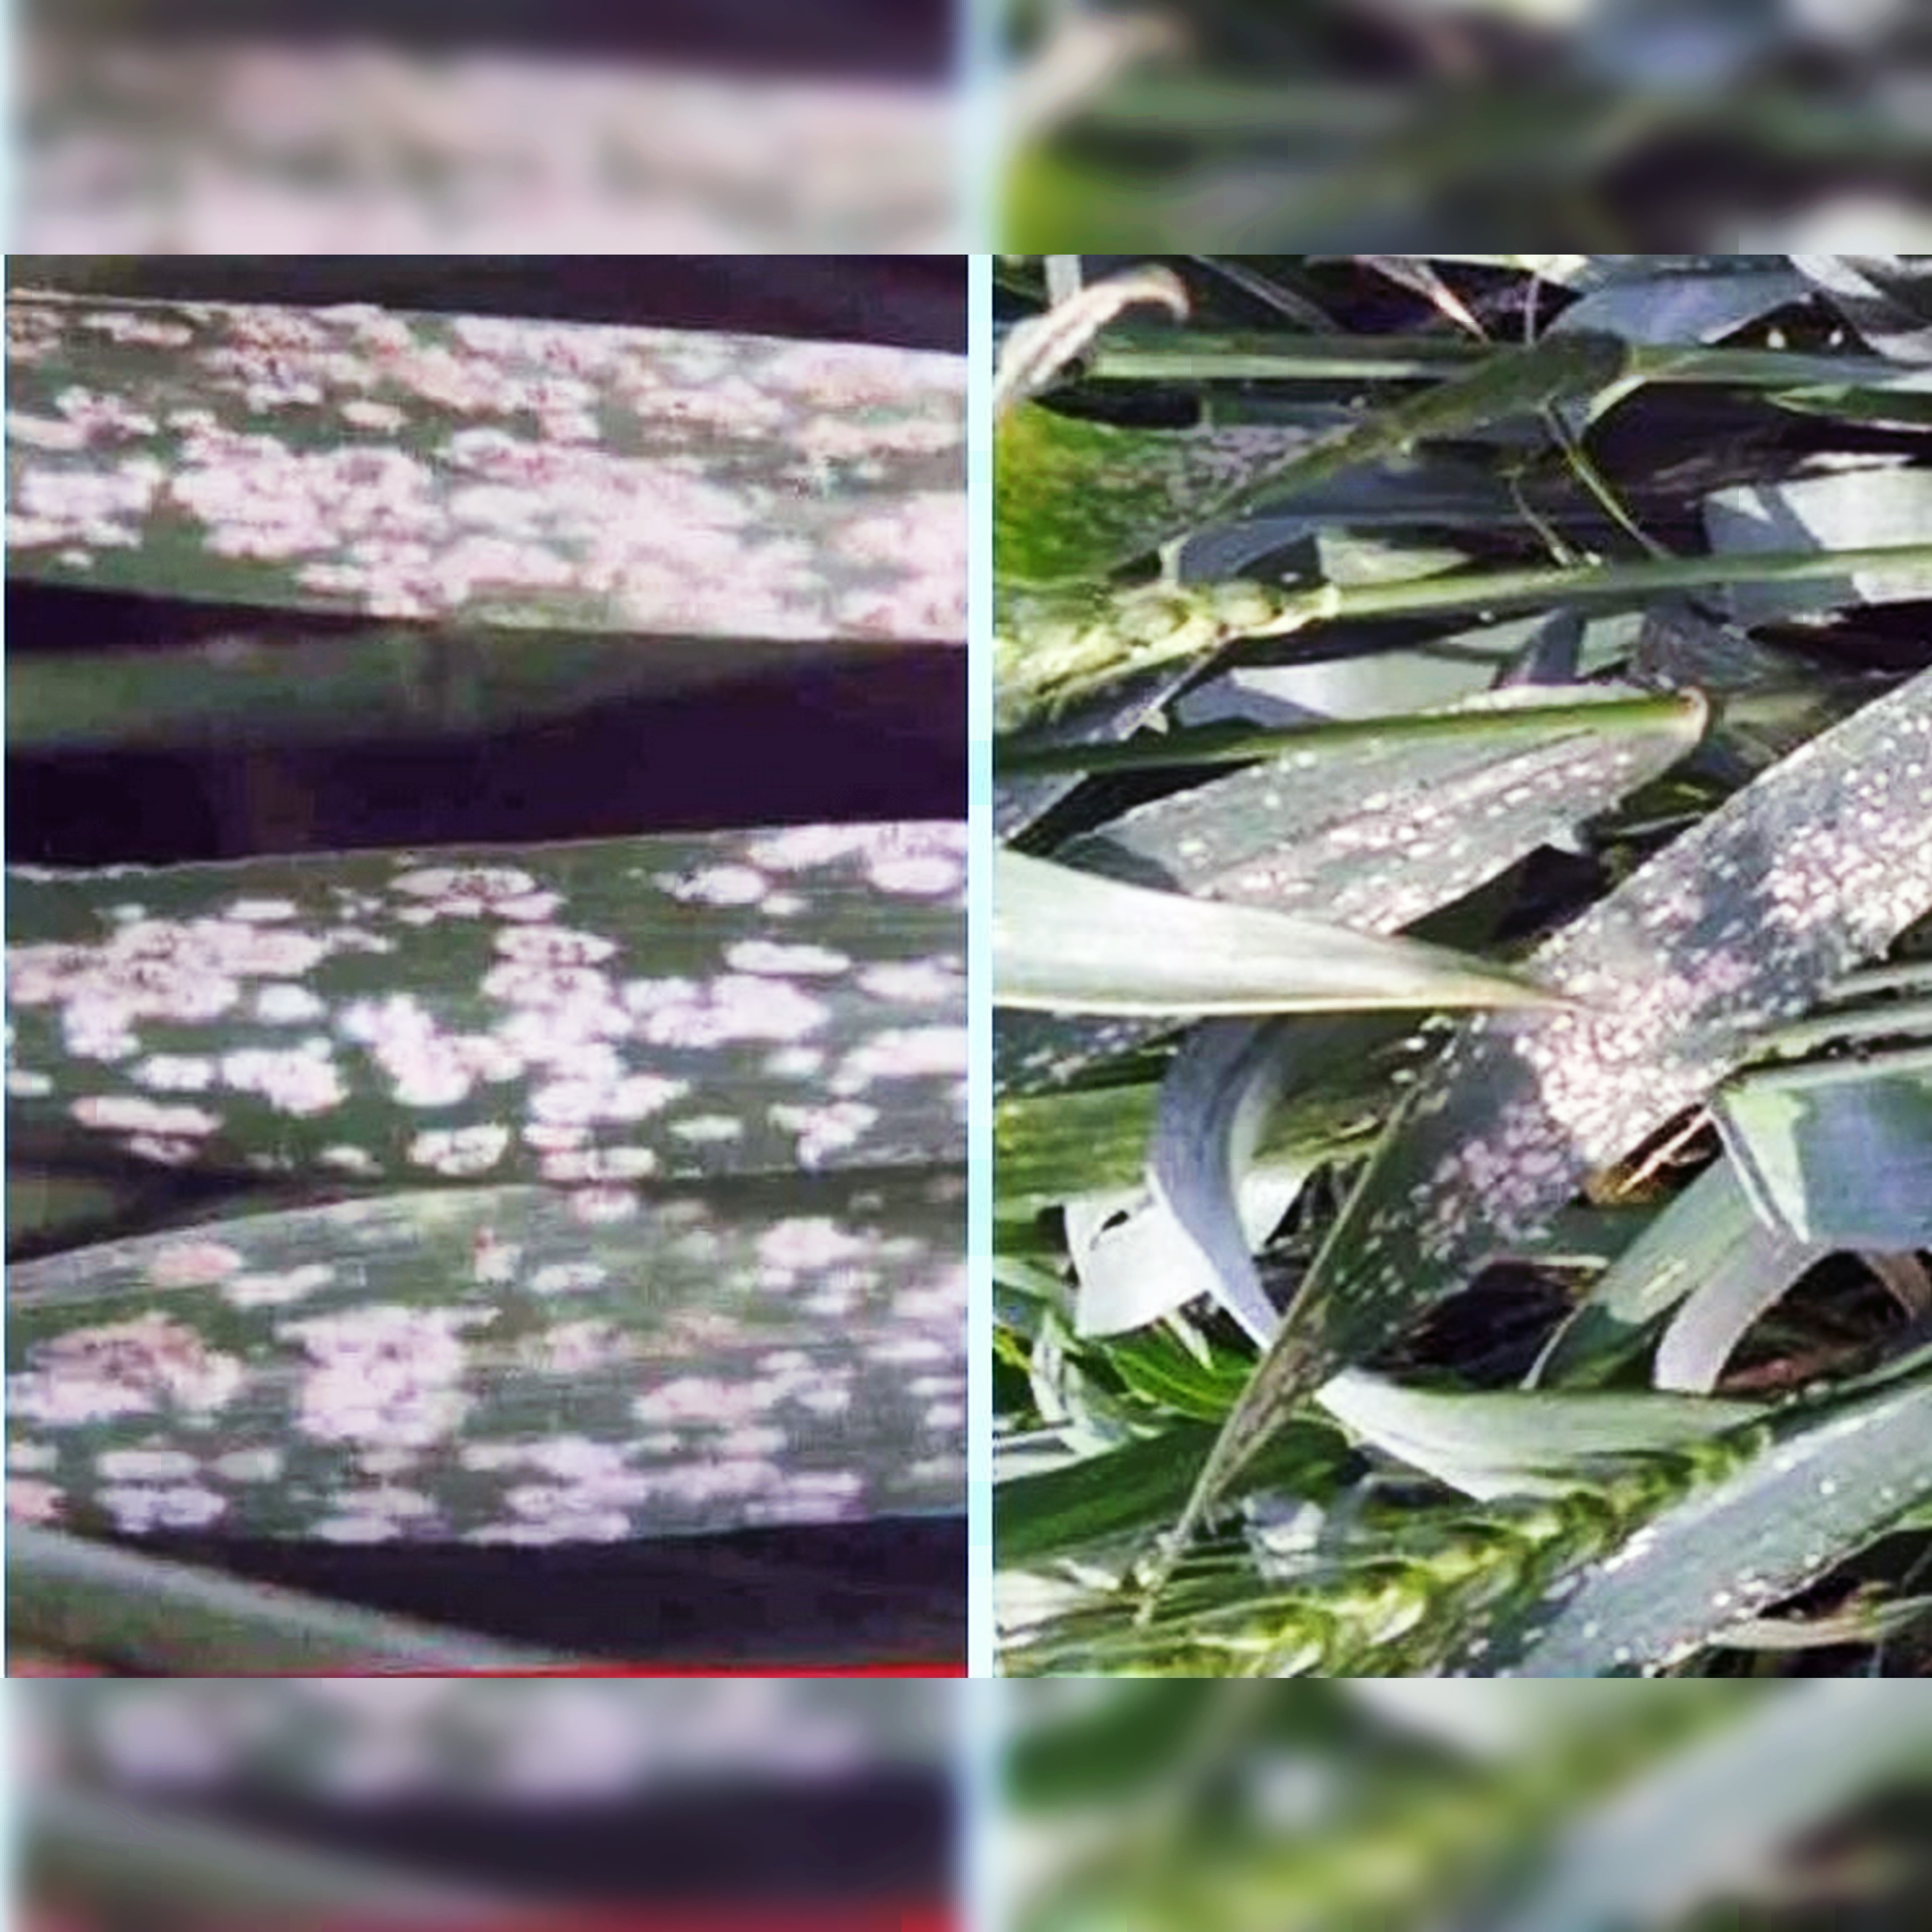Powdery Mildew: (32, 782, 982, 1208), (34, 310, 978, 676), (18, 1249, 968, 1555), (1382, 752, 1932, 1274)
